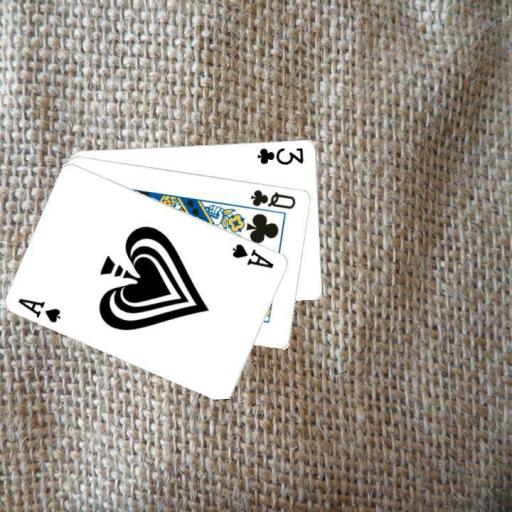card-corner: (15, 294, 63, 324), (230, 240, 276, 270), (248, 186, 298, 210), (255, 144, 305, 166)
